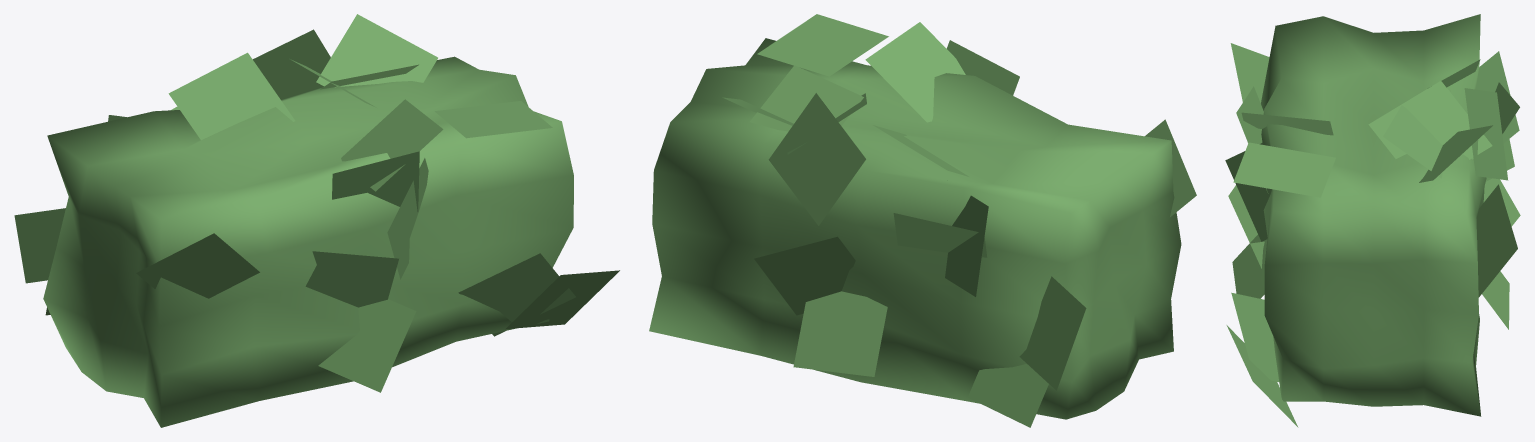
File: hedge_1m_low.glb
The picture shows the model from 3 angles, left to right: view 1: azimuth 30°, elevation 25°; view 2: azimuth 150°, elevation 25°; view 3: azimuth 270°, elevation 25°; orthographic projection. The views are drawn at different scales.
Visible parts, largest first — view 1: hedge_1m_low; view 2: hedge_1m_low; view 3: hedge_1m_low.
Boxes of the visible parts, bbox=[...] form: hedge_1m_low: bbox=[14, 14, 619, 427]; hedge_1m_low: bbox=[649, 14, 1196, 427]; hedge_1m_low: bbox=[1225, 14, 1520, 427].
Bounding box in the file's own units: 1.19 × 0.6487 × 0.6619.
